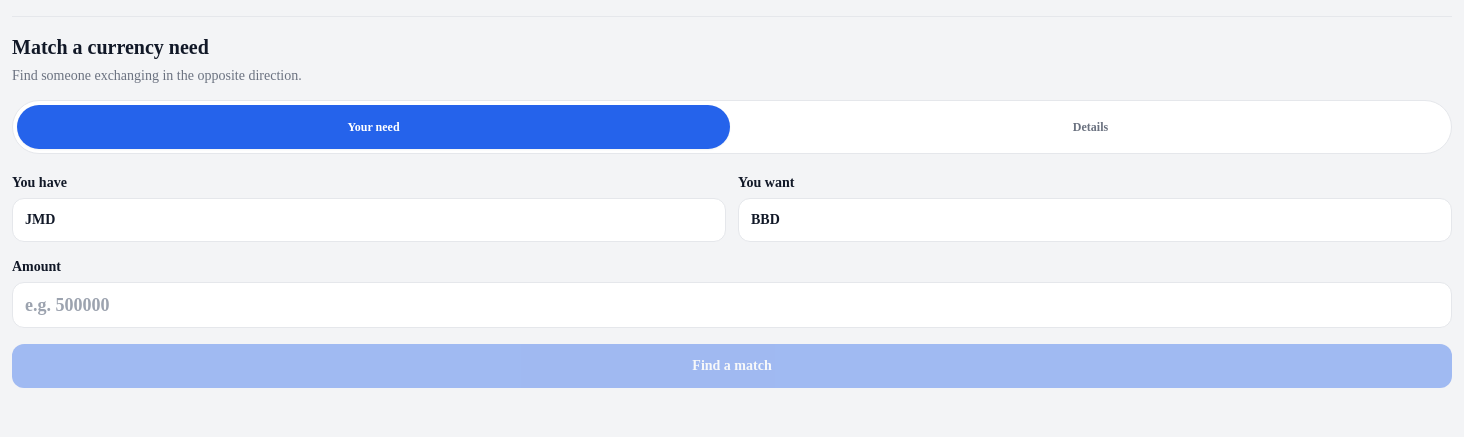
Test: FxNettingRail — currency validation › keeps the CTA enabled for known codes from the corridor presets
Click the button "Details" at (1090, 127), box 734,105 -> 1447,149
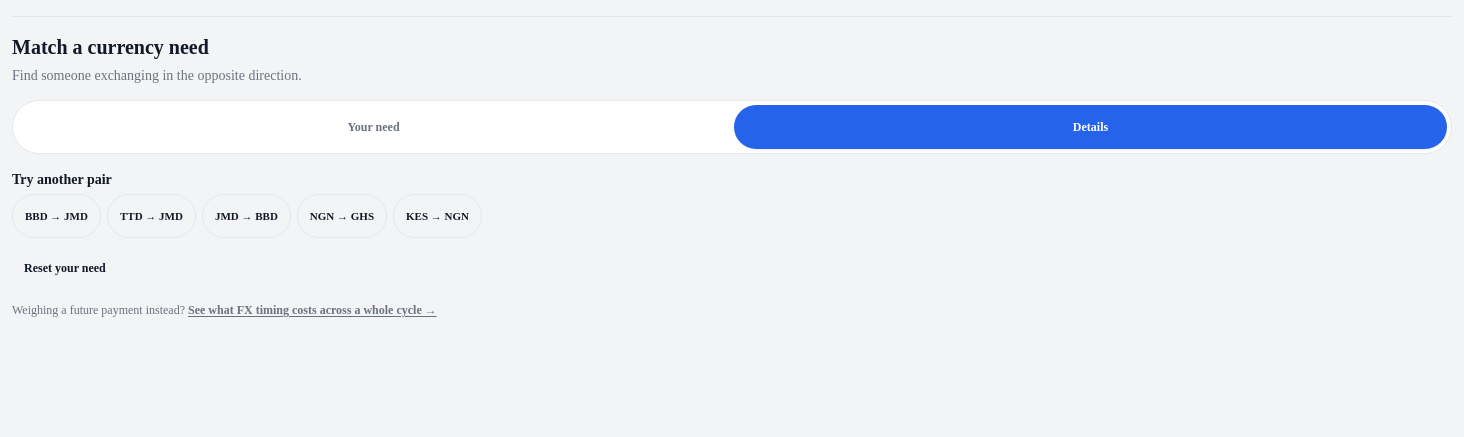
Click the button "TTD → JMD" at (152, 216), box 107,194 -> 196,238
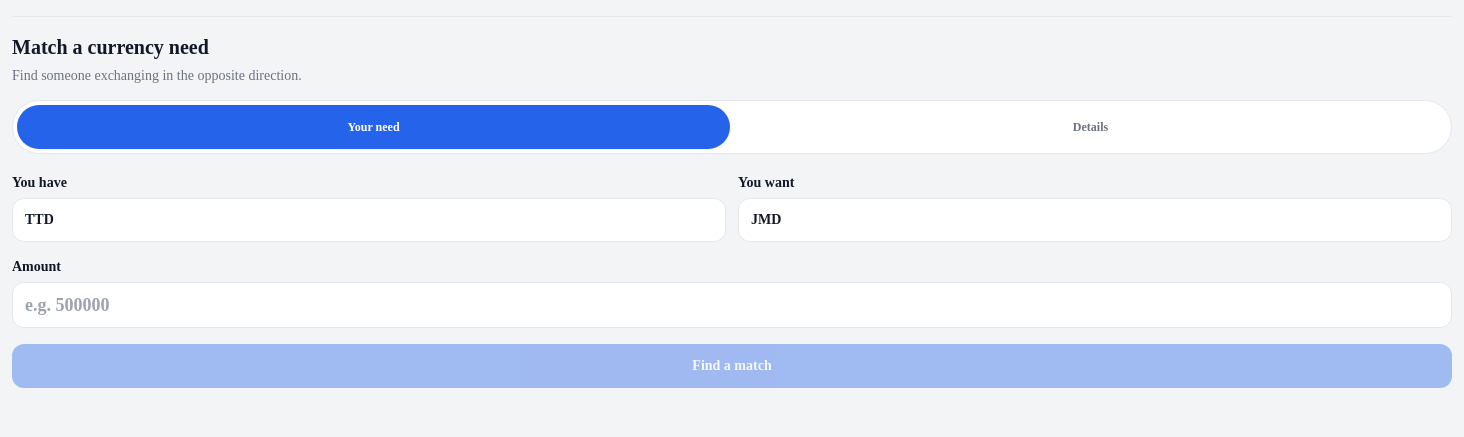
Now the element with test id "fx-phase-intent" is shown, box 12,170 -> 1452,388
Now the field named "Currency you have" holds "TTD", box 12,198 -> 726,242
Now the field named "Currency you want" holds "JMD", box 738,198 -> 1452,242
Type "1000" into the number field named "Amount to convert" at (732, 305), box 12,282 -> 1452,328
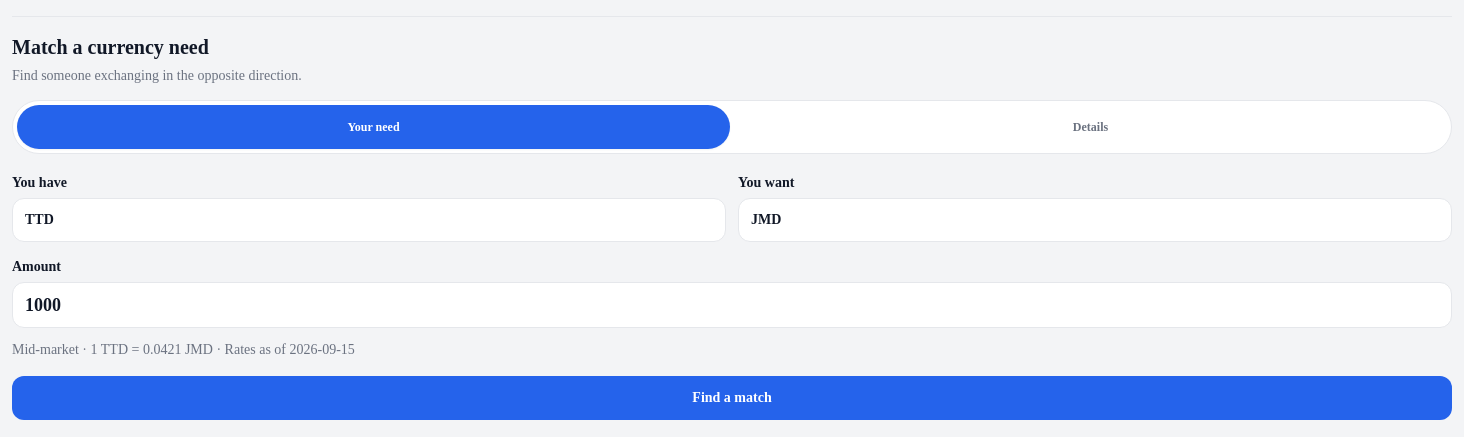
Now the button "Find a match" is enabled, box 12,376 -> 1452,420
